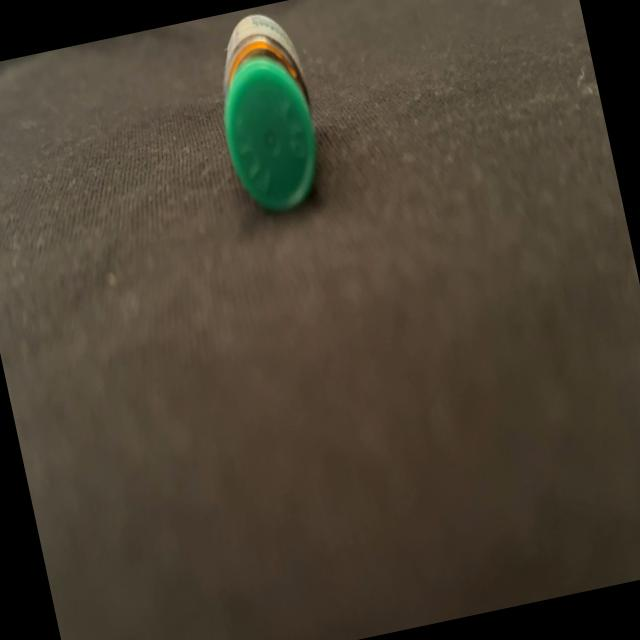midazolm: (203, 9, 329, 217)
